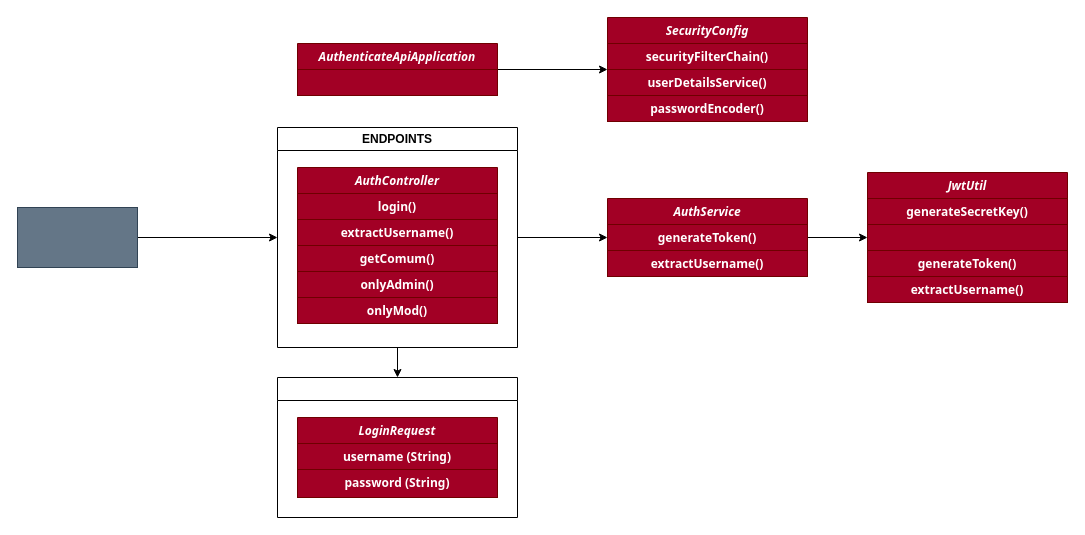
The diagram is 1085 pixels wide and 535 high, and some of its shapes have lost their labels. The shapes that lost their labels are listed below. From the top down, each one's centre as x and y in pixels, then its label:
At point (397, 82): "main()".
At point (77, 237): "Client HTTP request".
At point (967, 237): "getSecretString()".
At point (397, 447): "MODELS".
